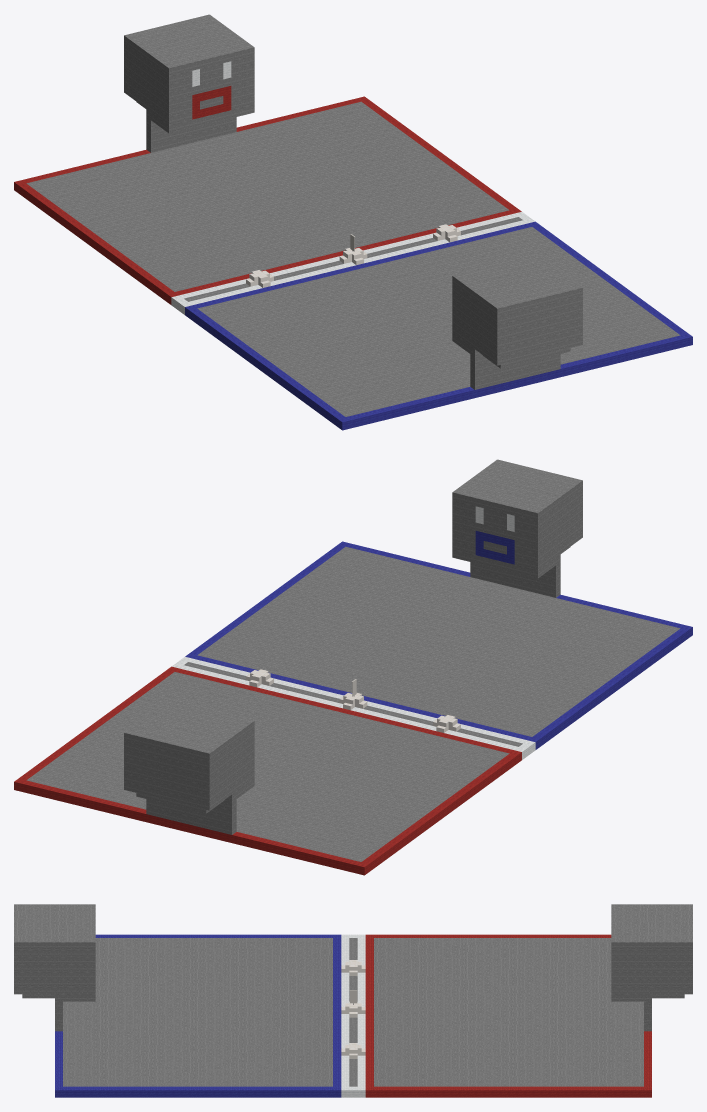
The model's file is minecraft.obj.
The picture shows the model from 3 angles, top to bottom: view 1: azimuth 30°, elevation 25°; view 2: azimuth 150°, elevation 25°; view 3: azimuth 270°, elevation 25°; orthographic projection. The views are drawn at different scales.
Size of the model in its own units: 45 by 13 by 83.
